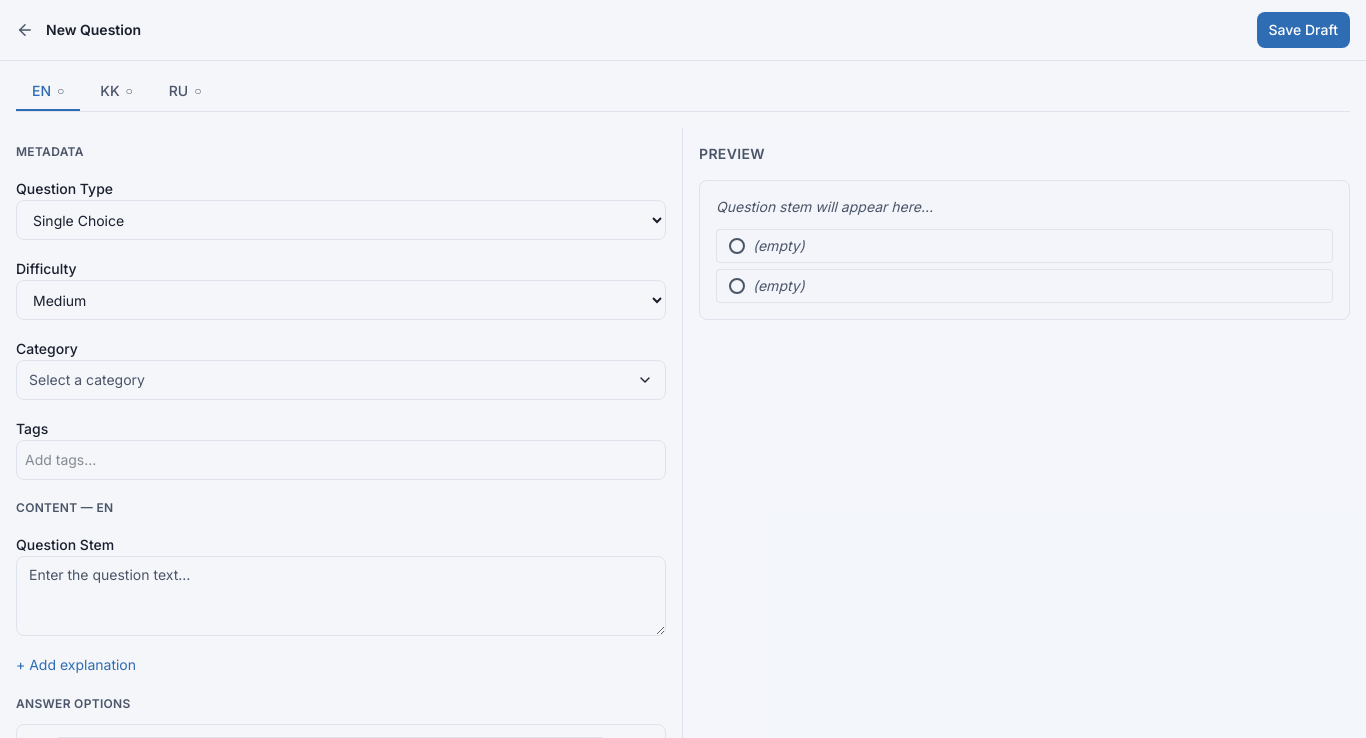
QuestionEditorPage — partial locale guard (ISS-268) › blocks the save and shows an error when a second locale has a stem but blank options
Expected: the button "Save Draft" is shown, [1256, 12, 1350, 48]
Note: Default locale (en): stem + both options filled.
Step 1. Type "English stem" into the text box with placeholder "Enter the question text…" → (341, 596), box [16, 556, 666, 636]
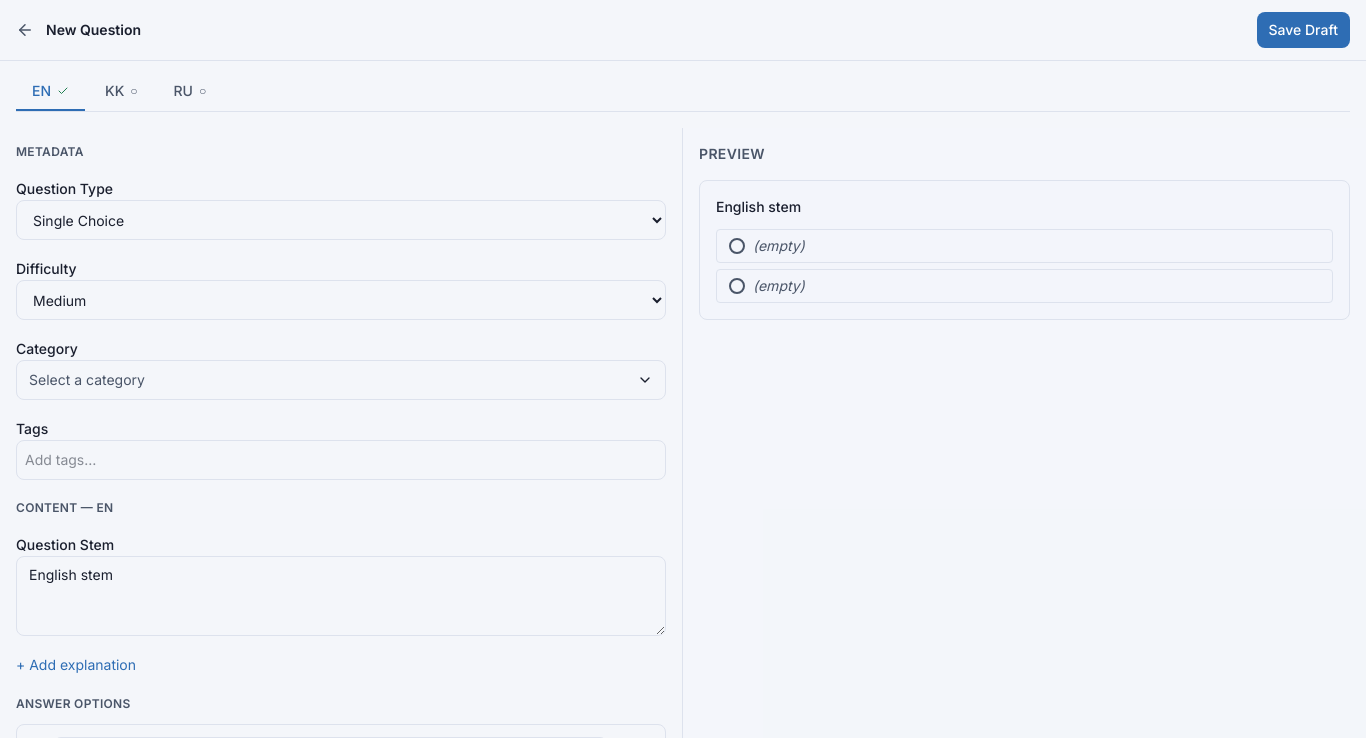
Note: Second locale (ru): stem only.
Step 2. Click the button "RU ○" → (190, 92), box [158, 73, 222, 111]
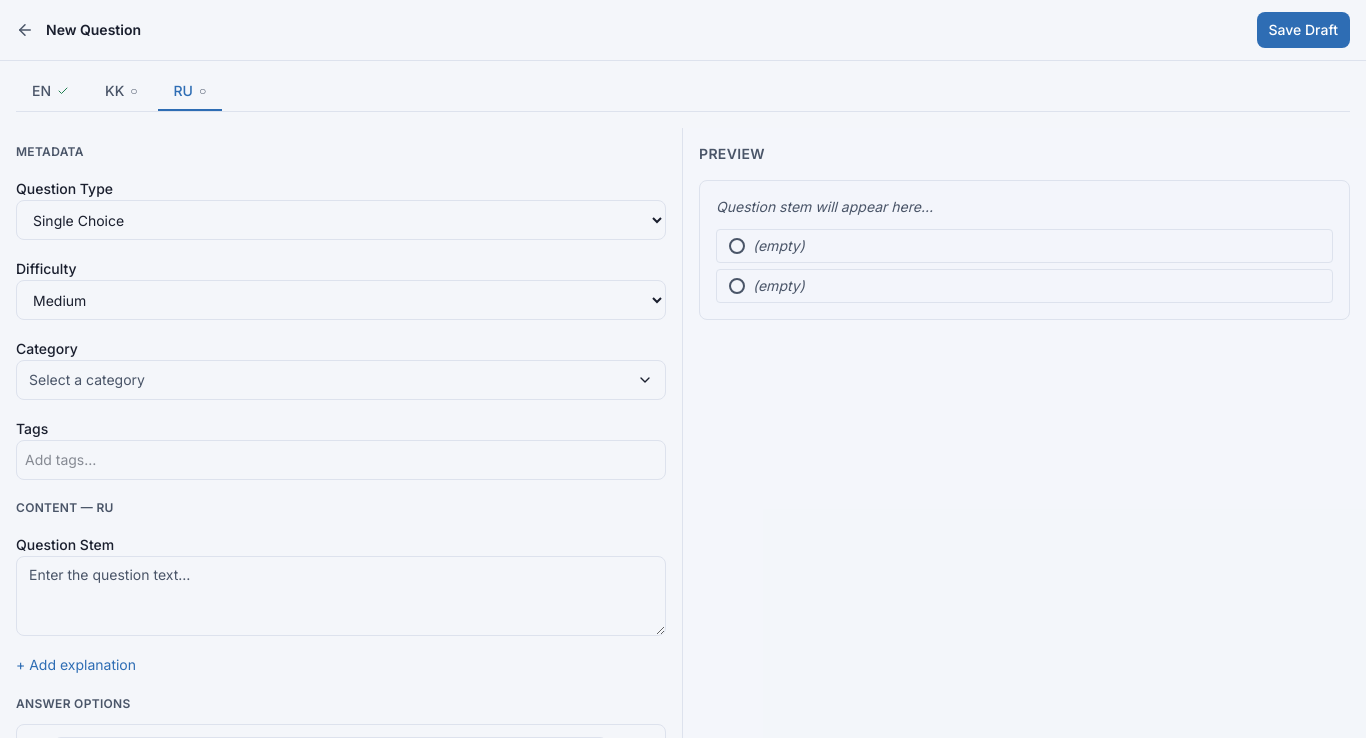
Step 3. Type "Русский вопрос" into the text box with placeholder "Enter the question text…" → (341, 596), box [16, 556, 666, 636]
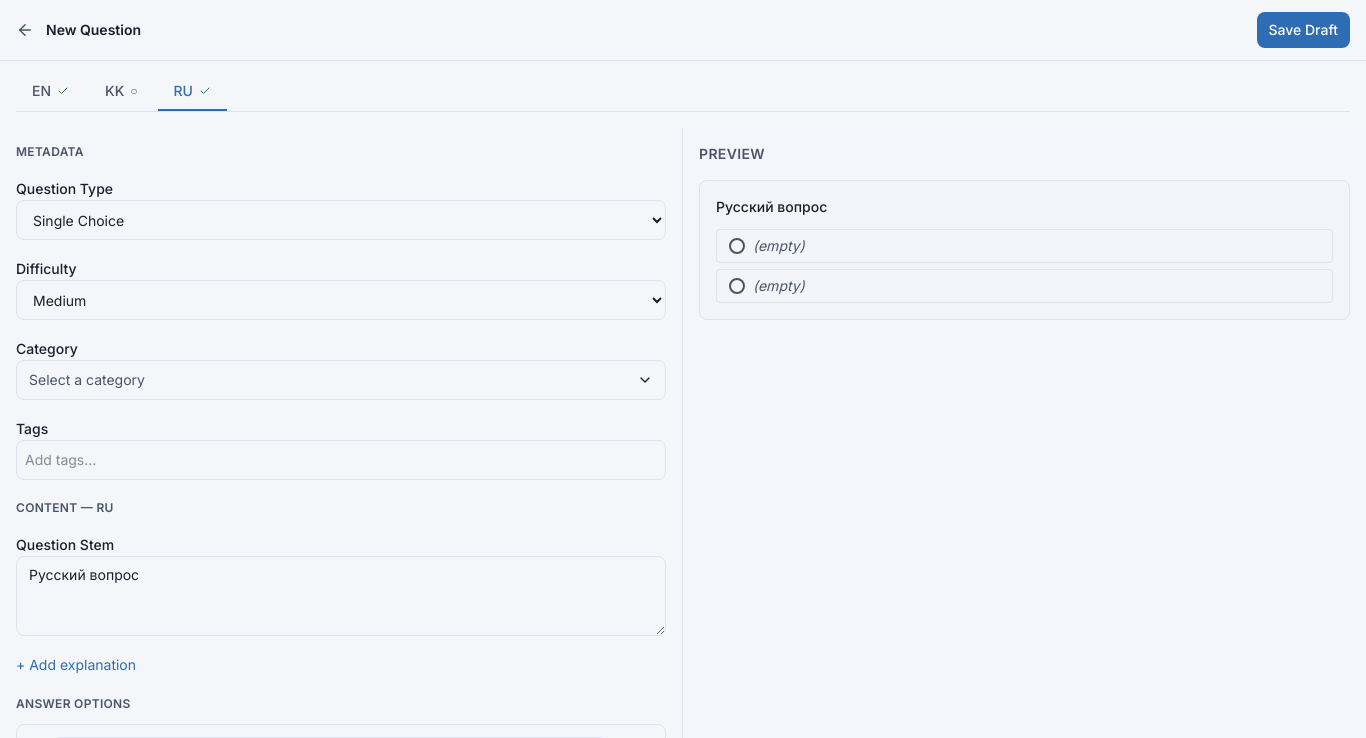
Note: Back on the default locale tab so it is the one used as default_locale.
Step 4. Click the button "EN" → (50, 92), box [16, 73, 85, 111]
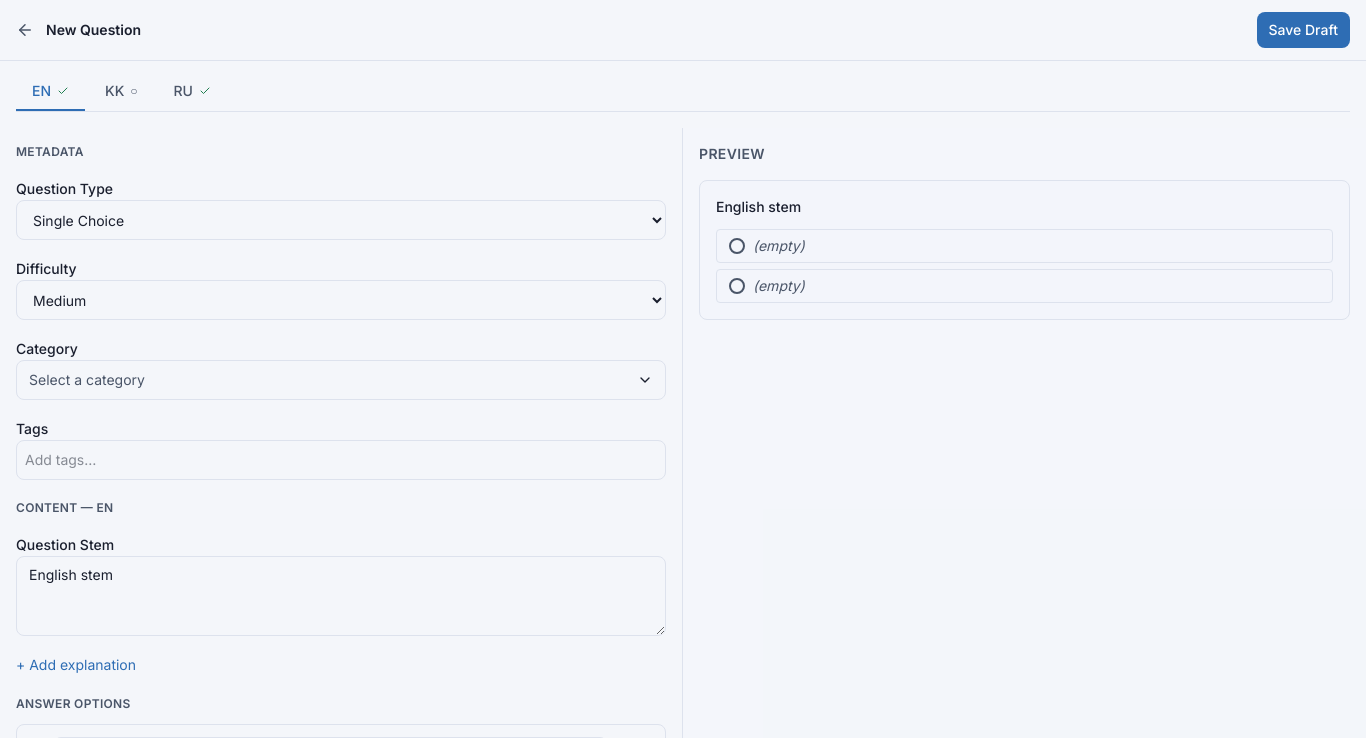
Step 5. Click the button "Save Draft" → (1303, 30), box [1256, 12, 1350, 48]
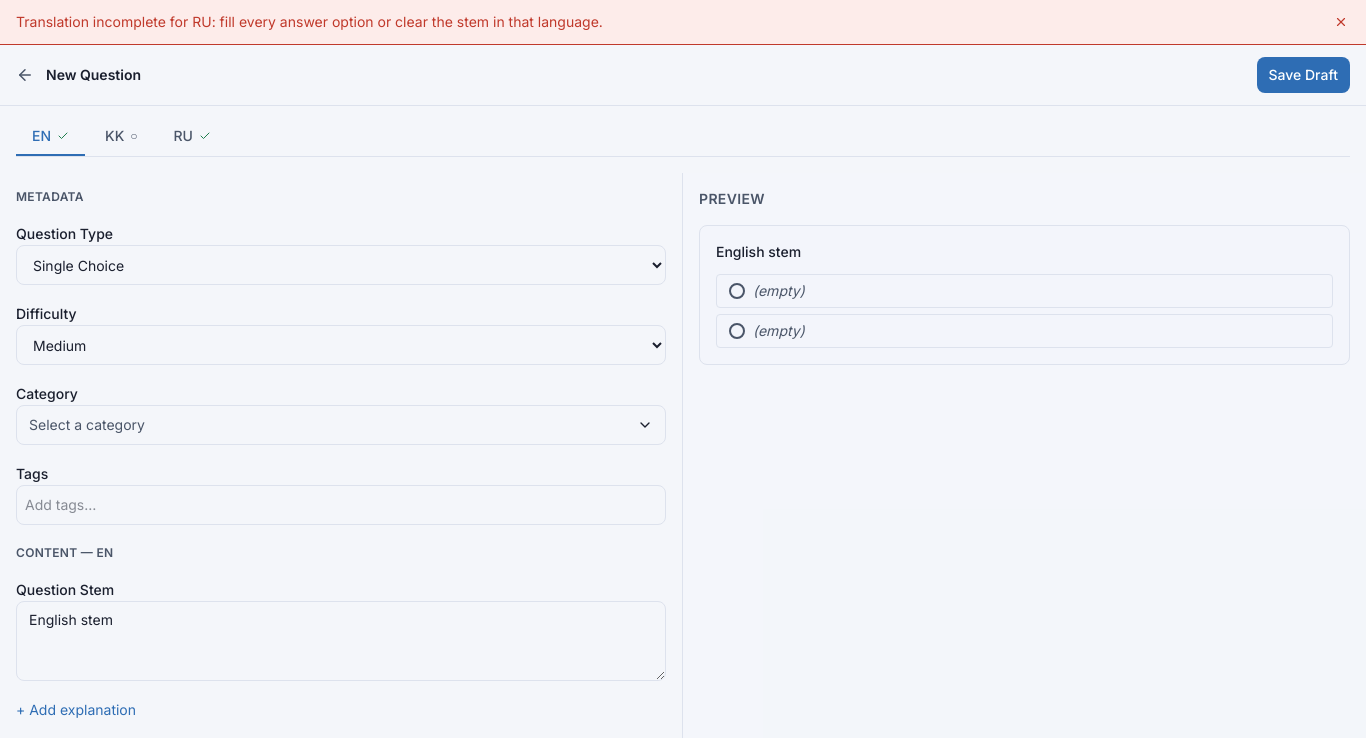
Expected: the text "Translation incomplete for RU" is shown, [16, 13, 603, 30]
